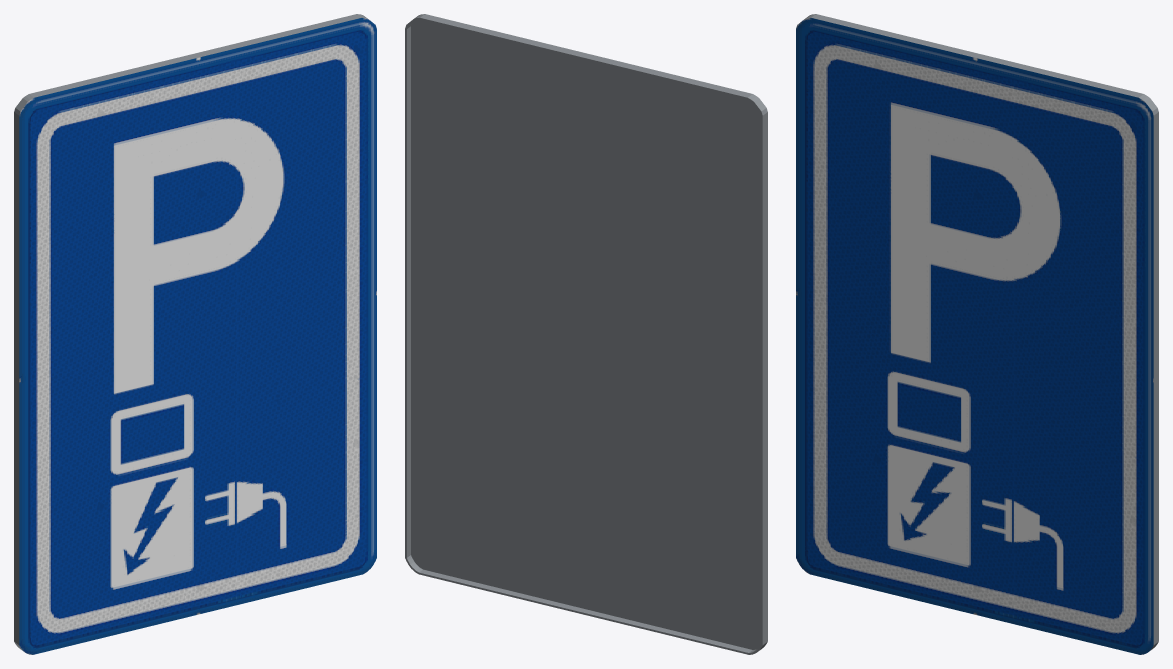
The picture shows the model from 3 angles, left to right: view 1: azimuth 30°, elevation 25°; view 2: azimuth 150°, elevation 25°; view 3: azimuth 330°, elevation 25°; orthographic projection.
Parts seen in each view (by area): view 1: cat_eb0b2778d4ace710; view 2: cat_eb0b2778d4ace710; view 3: cat_eb0b2778d4ace710.
Boxes of the visible parts, x1=… form: cat_eb0b2778d4ace710: x1=14, y1=14, x2=376, y2=654; cat_eb0b2778d4ace710: x1=405, y1=14, x2=767, y2=654; cat_eb0b2778d4ace710: x1=796, y1=14, x2=1158, y2=654.
Size of the model in its own units: 0.6 by 0.015 by 0.8927.
2 materials, 1 textured.
